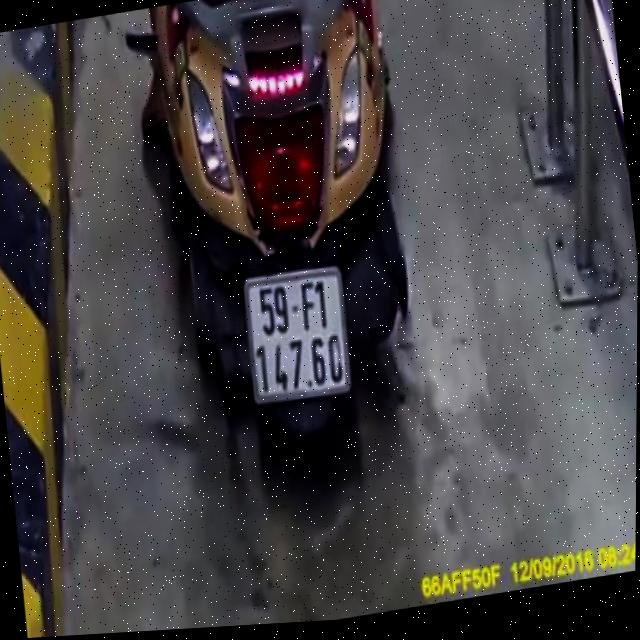motorcycle: (143, 0, 434, 501)
plate: (232, 257, 359, 416)
